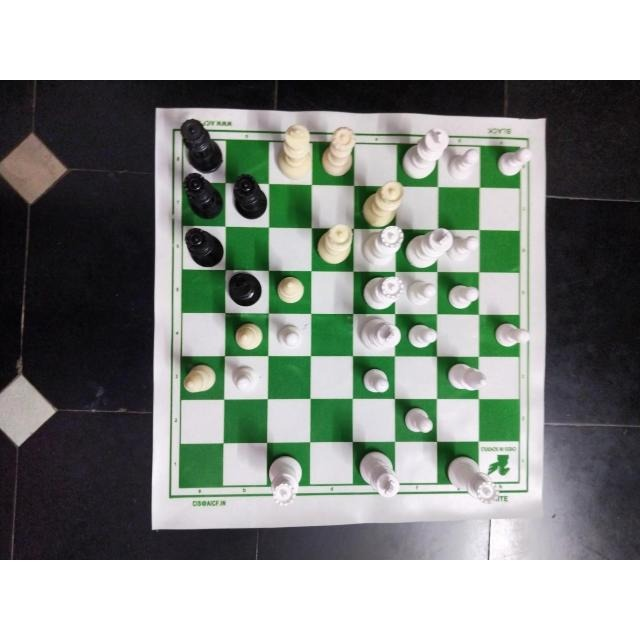black-king: (224, 270, 262, 310)
black-queen: (177, 115, 226, 171), (183, 173, 225, 219), (232, 172, 270, 222), (183, 224, 225, 268)
white-bishop: (445, 362, 491, 398), (182, 362, 217, 398), (233, 319, 263, 352), (273, 275, 304, 305)
white-king: (354, 444, 402, 500), (400, 124, 447, 181), (275, 122, 313, 180), (355, 316, 402, 356), (405, 227, 449, 267)
white-pawn: (493, 143, 534, 178), (446, 148, 481, 184), (490, 320, 529, 352), (399, 404, 434, 436), (360, 362, 392, 396), (227, 363, 258, 397), (444, 282, 479, 312), (403, 319, 438, 349), (406, 278, 438, 309), (272, 320, 303, 351), (446, 234, 477, 264)
white-queen: (445, 453, 499, 513), (359, 180, 403, 228), (319, 122, 357, 175), (265, 454, 302, 506), (314, 222, 352, 268), (362, 225, 402, 267), (361, 274, 404, 313)
